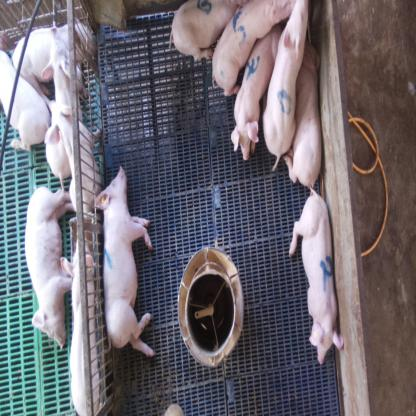2: (320, 254, 332, 291)
5: (232, 9, 246, 47)
7: (246, 56, 261, 81)
N-A: (278, 88, 290, 116)
